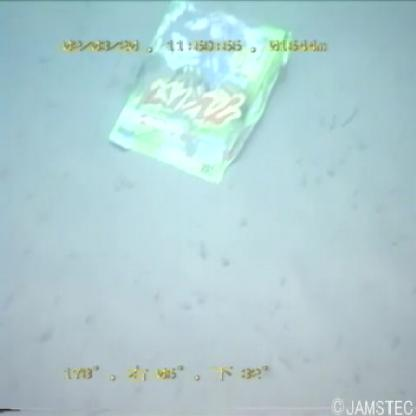Rác: (100, 1, 302, 195)
